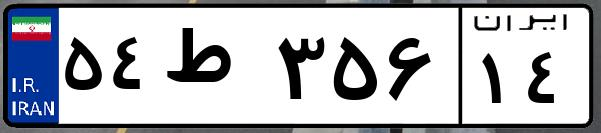1: (475, 38, 525, 113)
3: (270, 28, 330, 110)
4: (525, 38, 570, 115), (110, 28, 158, 98)
5: (330, 28, 385, 110), (57, 26, 110, 100)
6: (385, 28, 445, 110)
ط: (158, 20, 270, 120)
